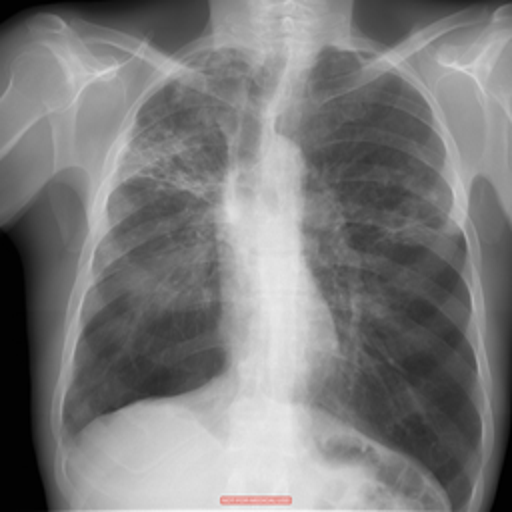TB: (123, 54, 250, 206), (324, 187, 455, 258)
